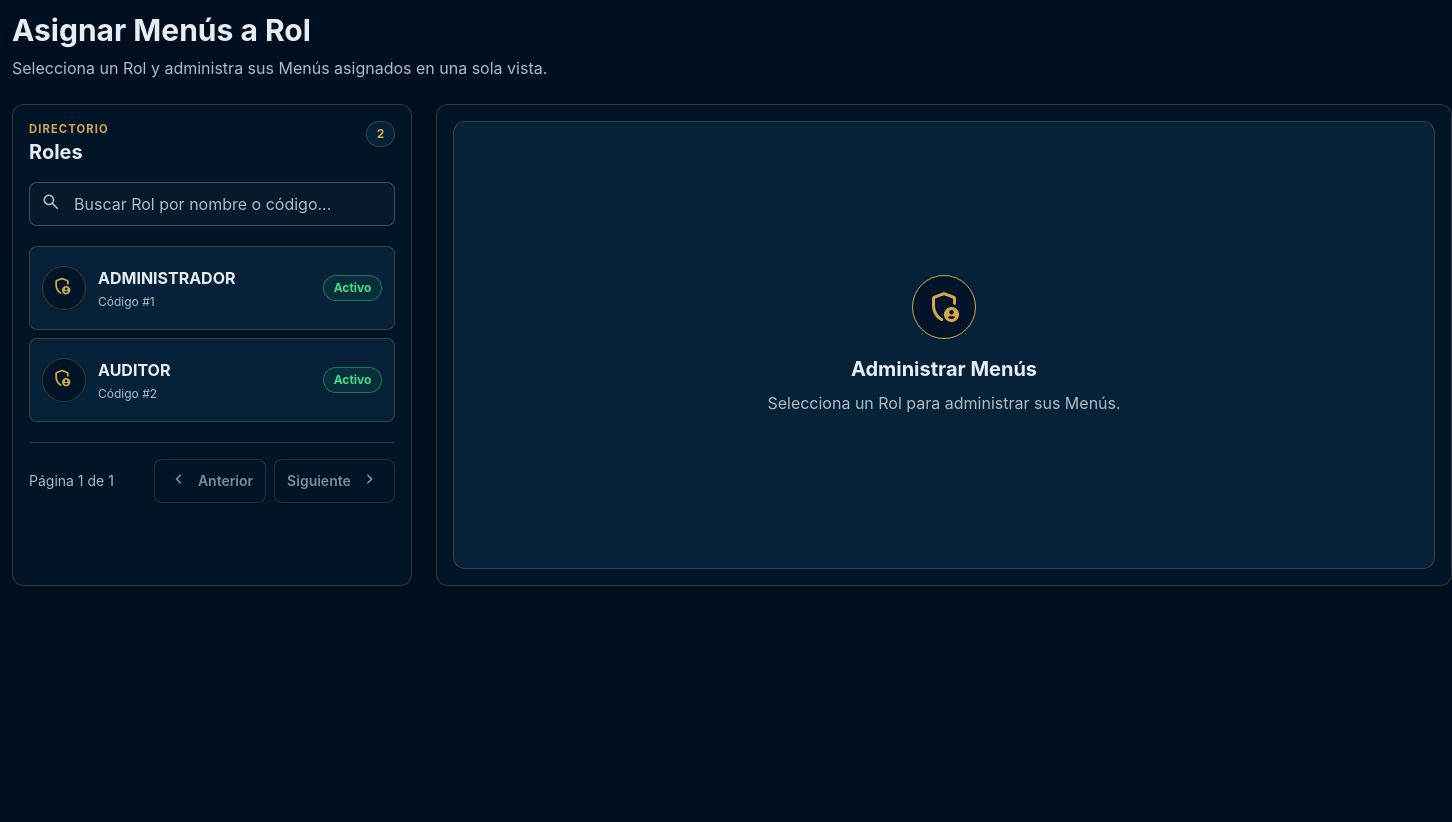
Test case: AsignarMenusListComponent › shows the empty state when the selected Role has no assigned Menús
The width and height of the screenshot is (1452, 822).
Click the button "ADMINISTRADOR Código #1 Activo". click: (212, 288)
box: [29,246,395,330]
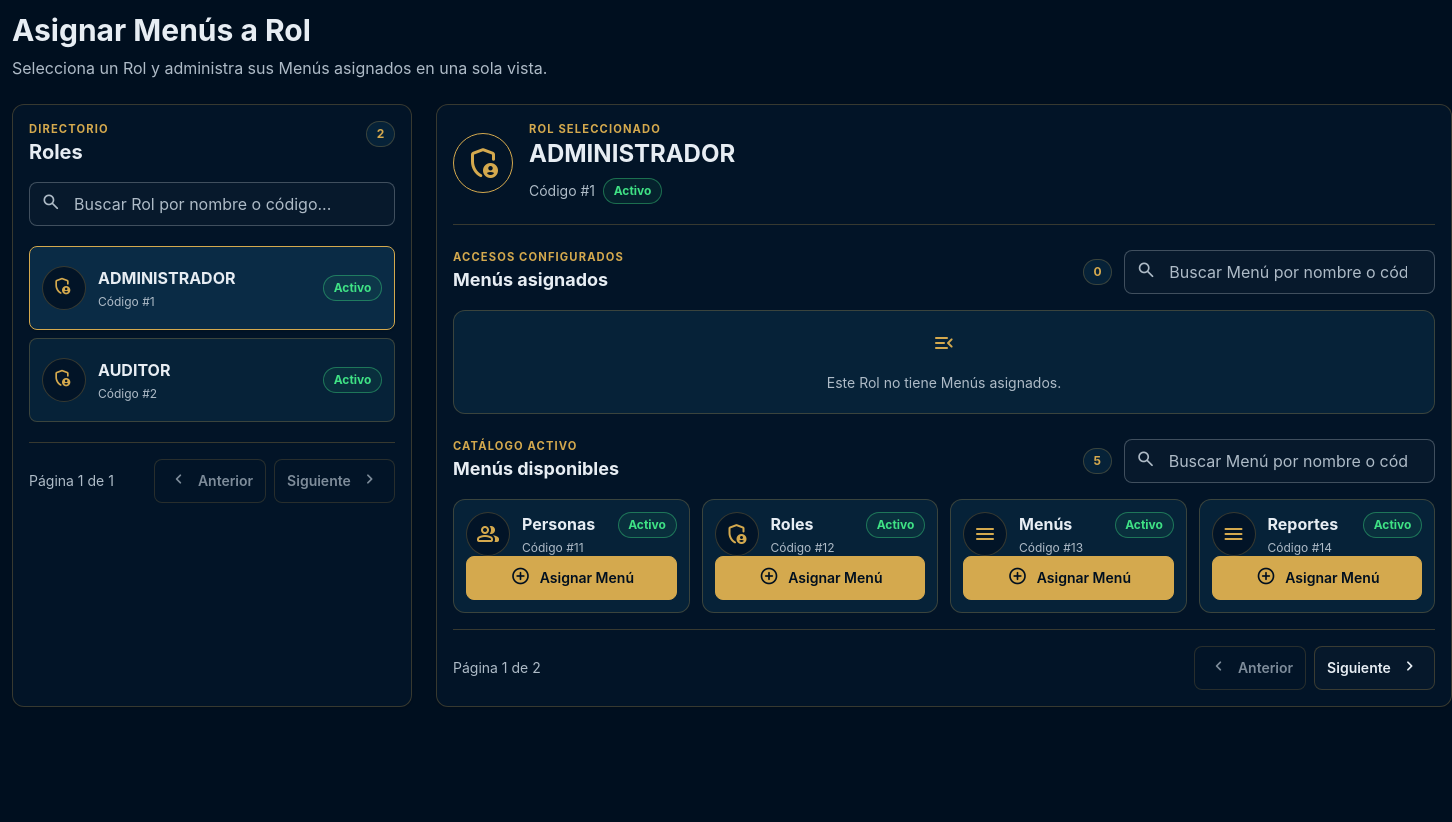
Now the element that starts with "Accesos configurados" shows "Este Rol no tiene Menús asignados.", box [827,374,1061,391]
